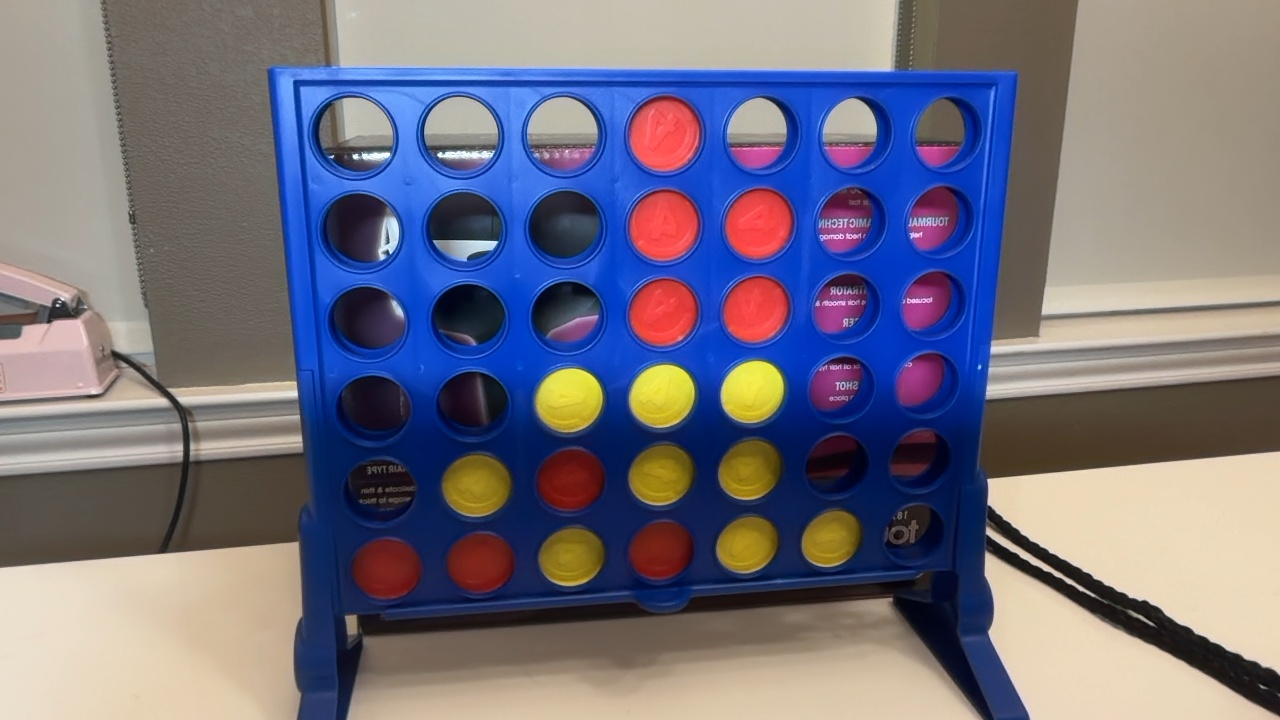red piece: (628, 96, 701, 171), (629, 189, 699, 261), (725, 188, 793, 259), (628, 278, 697, 346), (722, 276, 789, 342), (351, 538, 421, 600), (537, 448, 603, 511), (446, 532, 514, 593), (628, 520, 692, 581)
yellow piece: (534, 368, 603, 432), (629, 363, 695, 428), (442, 454, 510, 516), (628, 443, 694, 505), (720, 360, 784, 423), (538, 527, 604, 586), (718, 439, 781, 500), (716, 516, 777, 573), (801, 510, 860, 567)
